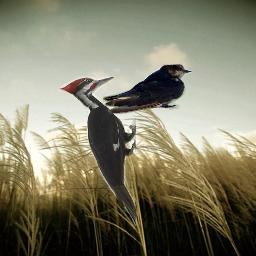Swallow: (103, 64, 192, 114)
Woodpecker: (58, 76, 136, 227)
